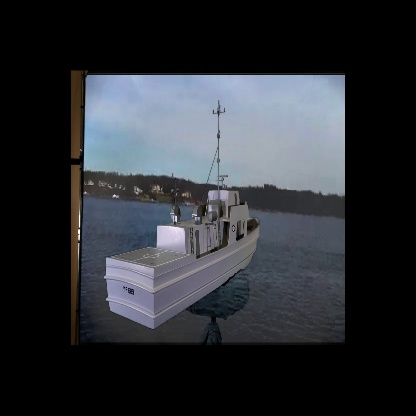YP689: (105, 102, 261, 330)
